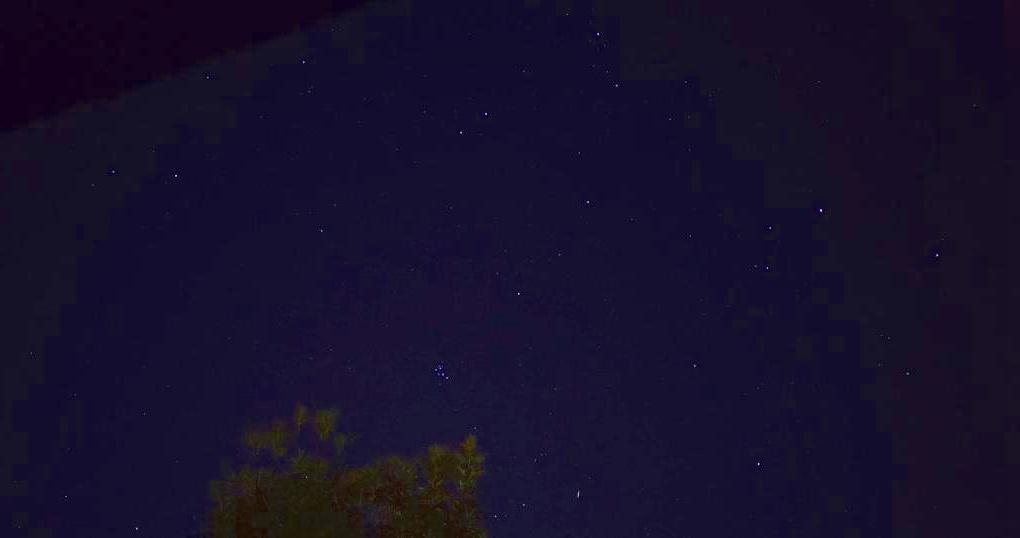meteorite: (565, 485, 591, 503)
